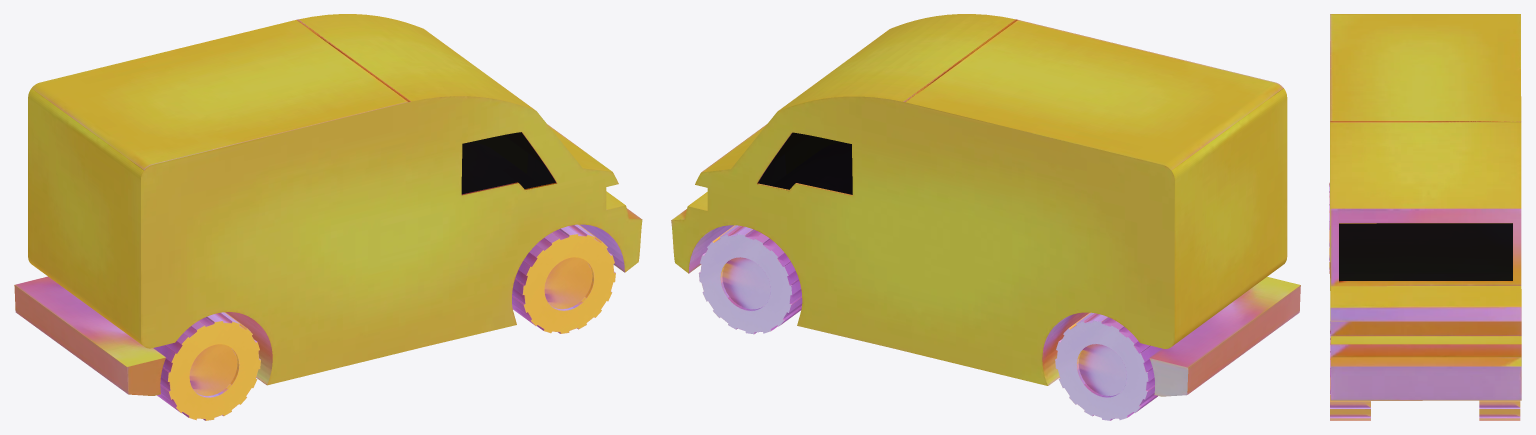
Rendered from INCONOGRAPHY_source_v3.glb.
3 renders of one model, left to right at view 1: azimuth 30°, elevation 25°; view 2: azimuth 150°, elevation 25°; view 3: azimuth 270°, elevation 25°, orthographic. The views are drawn at different scales.
Visible parts, largest first — view 1: van, vanWheel_1, vanWheel_1.001, van_windows_1; view 2: van, vanWheel_1.002, vanWheel_1.003, van_windows_1; view 3: van, van_windows_1, vanWheel_1, vanWheel_1.002.
Boxes of the visible parts, left/top/right/bottom form: van: left=14, top=14, right=642, bottom=395; vanWheel_1: left=512, top=224, right=615, bottom=333; vanWheel_1.001: left=153, top=312, right=260, bottom=420; van_windows_1: left=461, top=132, right=555, bottom=194; van: left=671, top=14, right=1300, bottom=396; vanWheel_1.002: left=698, top=225, right=802, bottom=334; vanWheel_1.003: left=1055, top=312, right=1161, bottom=420; van_windows_1: left=758, top=132, right=852, bottom=194; van: left=1330, top=14, right=1521, bottom=400; van_windows_1: left=1339, top=223, right=1512, bottom=280; vanWheel_1: left=1330, top=329, right=1370, bottom=420; vanWheel_1.002: left=1479, top=400, right=1520, bottom=420.
Bounding box in the file's own units: 0.9976 × 0.4981 × 0.3789.
Materials: 5 (4 with a texture image).
